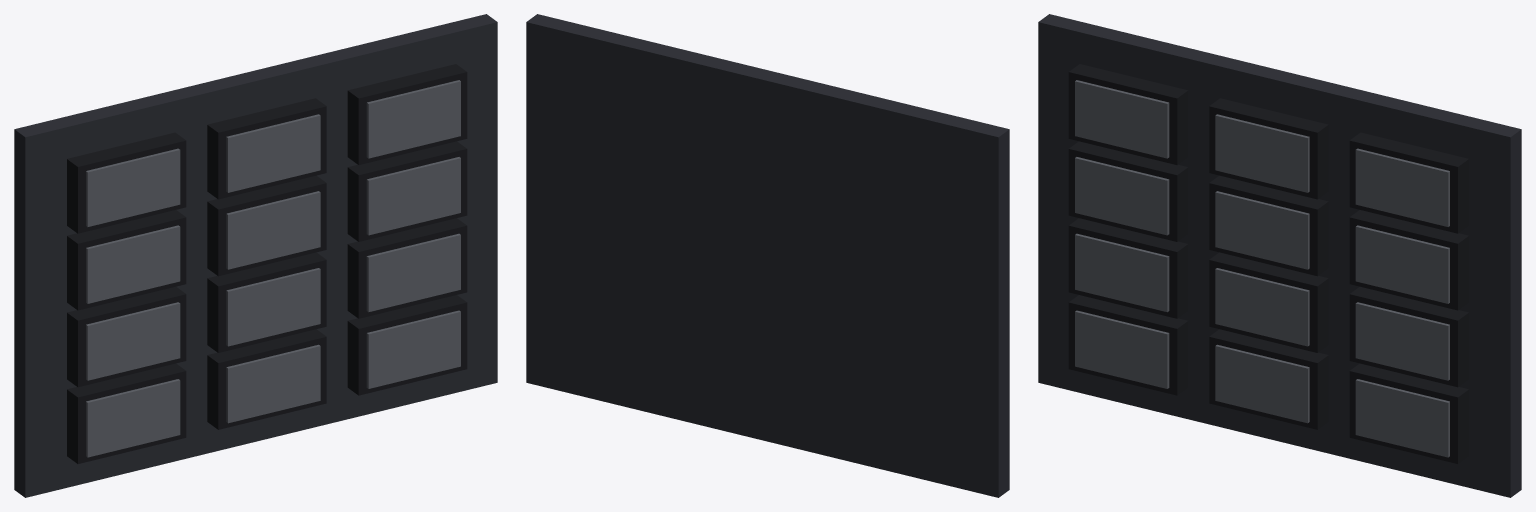
Rendered from LamparasApagadas.obj.
The picture shows the model from 3 angles, left to right: view 1: azimuth 30°, elevation 25°; view 2: azimuth 150°, elevation 25°; view 3: azimuth 330°, elevation 25°; orthographic projection.
Parts seen in each view (by area): view 1: LamparasApagadas; view 2: LamparasApagadas; view 3: LamparasApagadas.
Boxes of the visible parts, <box> form: LamparasApagadas: <box>14,14,497,497</box>; LamparasApagadas: <box>526,14,1009,497</box>; LamparasApagadas: <box>1038,14,1521,497</box>.
Size of the model in its own units: 7.4 by 5.4 by 0.65.
1 material, 1 textured.
